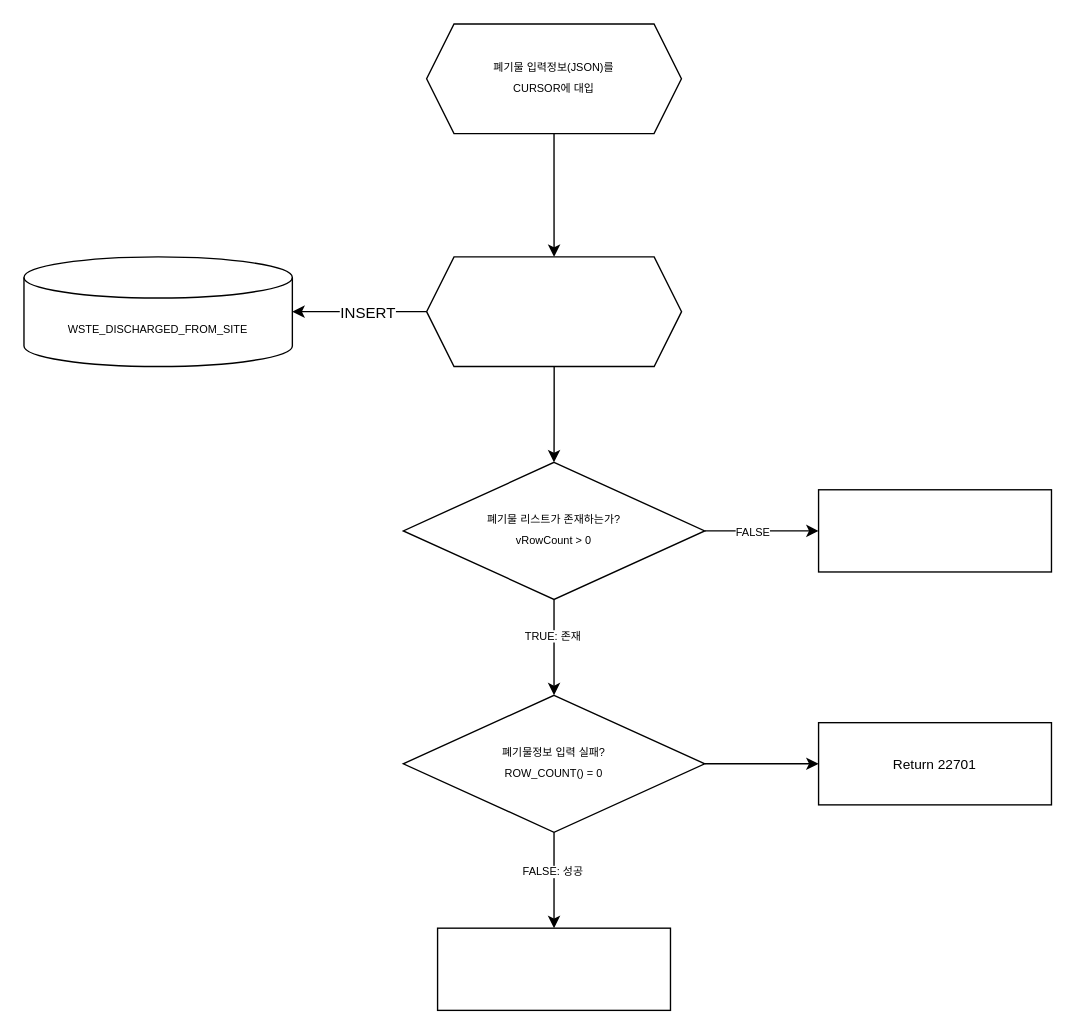
The diagram is 1075 pixels wide and 1034 high, and some of its shapes have lost their labels. Here are the shapes that lost their labels. From the top down, the centre of each, then its label:
point (553, 311): CURSOR의 값을 테이블에 입력
point (934, 530): Return 22702
point (553, 968): Return 0
